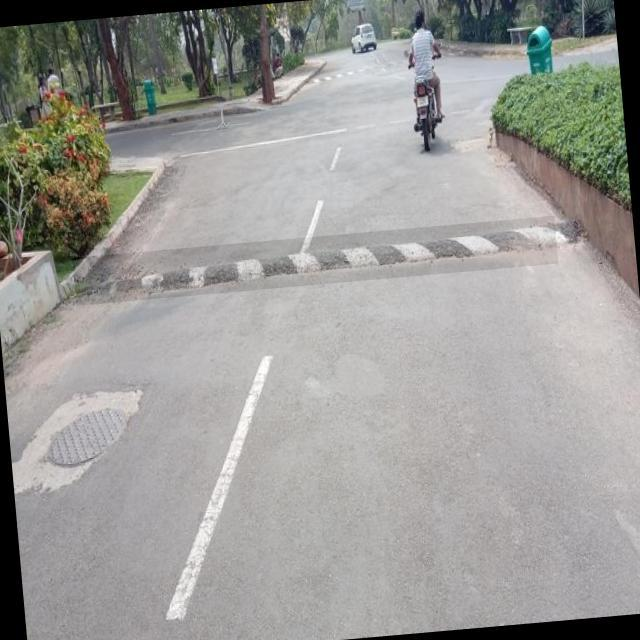speedbreaker: (71, 216, 558, 306)
